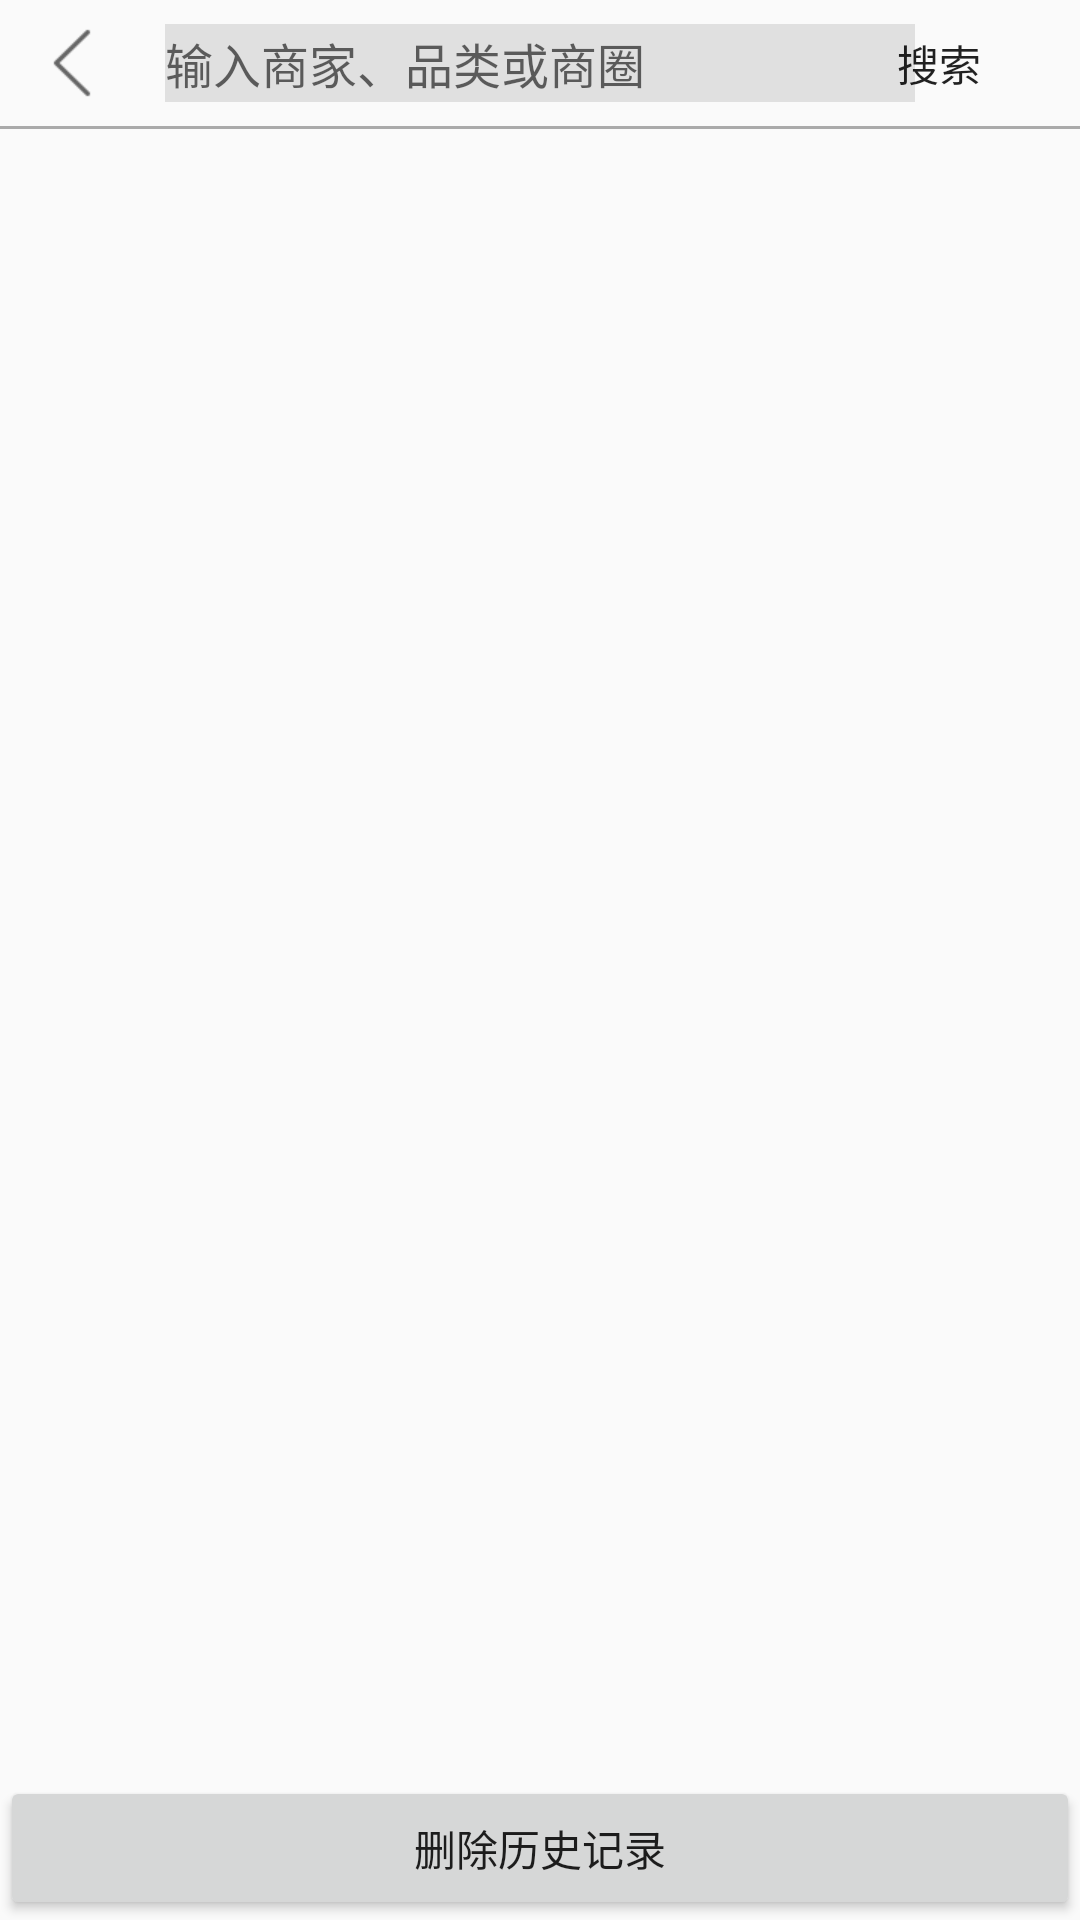

Icon bounding boxes for this 1080*1920 phone screenshot, format bbox(x1, y1, x2, y2):
location back: bbox(54, 30, 90, 96)
